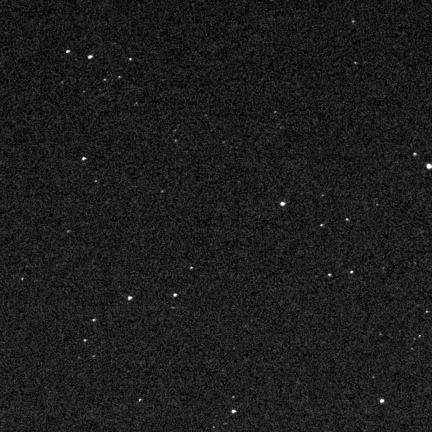blob: (88, 55, 93, 59), (427, 164, 431, 169), (380, 399, 384, 403), (281, 202, 285, 206), (128, 296, 132, 300), (84, 339, 88, 343), (173, 294, 178, 297), (352, 20, 355, 24), (328, 274, 332, 277), (92, 319, 96, 322), (190, 267, 194, 270), (354, 62, 358, 65), (66, 50, 70, 53), (82, 157, 86, 160), (95, 180, 98, 184), (118, 76, 122, 79), (129, 58, 133, 61), (232, 410, 236, 413), (320, 224, 324, 227), (92, 355, 95, 358), (104, 79, 107, 82), (414, 153, 417, 156), (351, 271, 353, 274), (346, 219, 349, 221)
